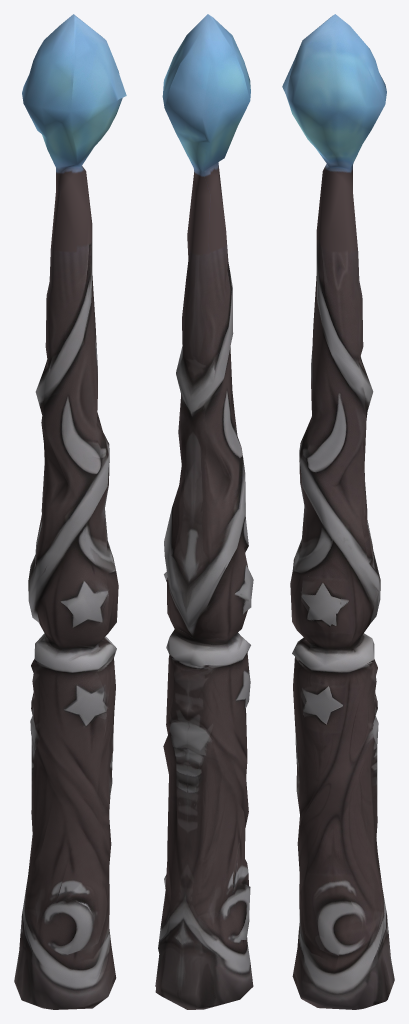
Rendered from mage_staff.fbx.
3 views of the same model, side by side, from view 1: azimuth 90°, elevation 25°; view 2: azimuth 150°, elevation 25°; view 3: azimuth 270°, elevation 25° (orthographic).
Parts seen in each view (by area): view 1: tripo_node_f01eb82c; view 2: tripo_node_f01eb82c; view 3: tripo_node_f01eb82c.
Boxes of the visible parts, bbox=[...] form: tripo_node_f01eb82c: bbox=[14, 14, 126, 1009]; tripo_node_f01eb82c: bbox=[155, 14, 253, 1009]; tripo_node_f01eb82c: bbox=[282, 14, 394, 1009].
Size of the model in its own units: 11.38 by 124 by 12.79.
Materials: 1 (1 with a texture image).
